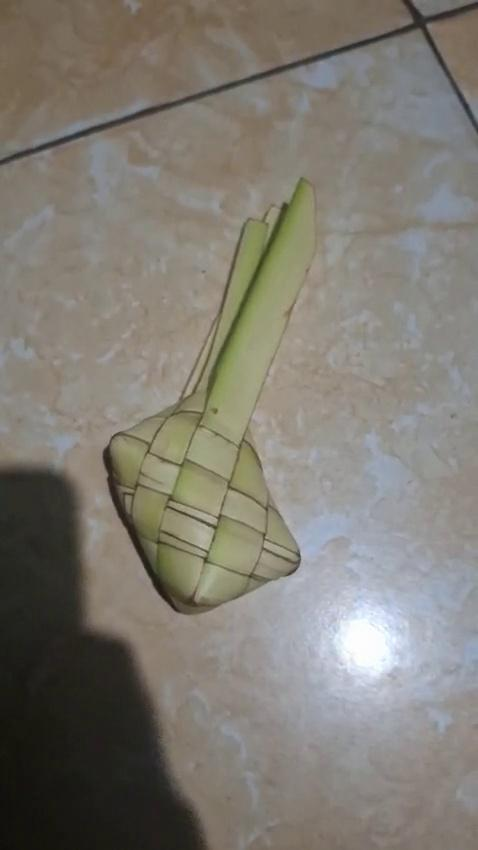Tipat Bantal: (95, 176, 321, 613)
